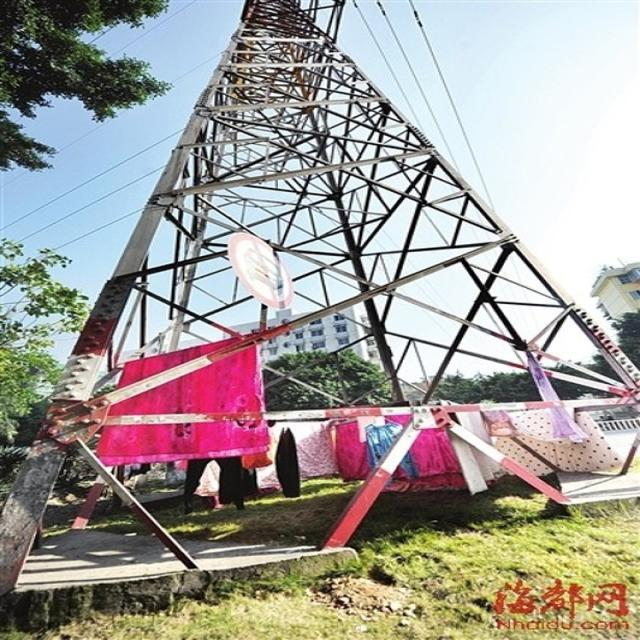non-critical vegetation: (32, 9, 634, 597)
